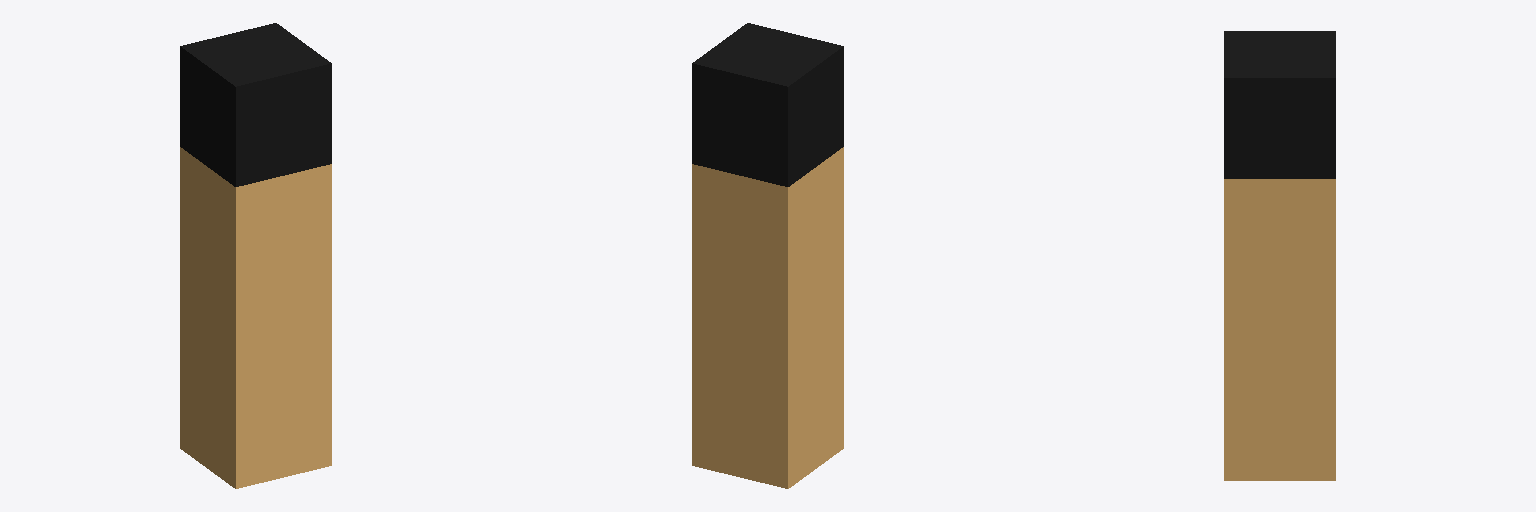
The picture shows the model from 3 angles: view 1: azimuth 30°, elevation 25°; view 2: azimuth 150°, elevation 25°; view 3: azimuth 270°, elevation 25°; orthographic projection.
Visible parts, largest first — view 1: pCube1; view 2: pCube1; view 3: pCube1.
Part boxes in pixels (x1,y1,x2,y2): pCube1: (180, 23, 331, 488); pCube1: (692, 23, 843, 488); pCube1: (1224, 31, 1335, 480).
Bounding box in the file's own units: 0.05 × 0.2 × 0.05.
Materials: 1 (1 with a texture image).